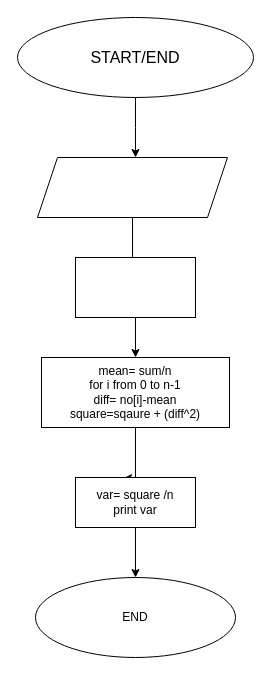
The diagram is 271 pixels wide and 675 high, and some of its shapes have lost their labels. Each missing label, with the centre of its shape:
"i from 0 to n-1 sum=sum+no[i]" goes at point (135, 287).
"READ Array of NUMBERS n sum=0 ,diff=0 , square =0" goes at point (132, 187).
